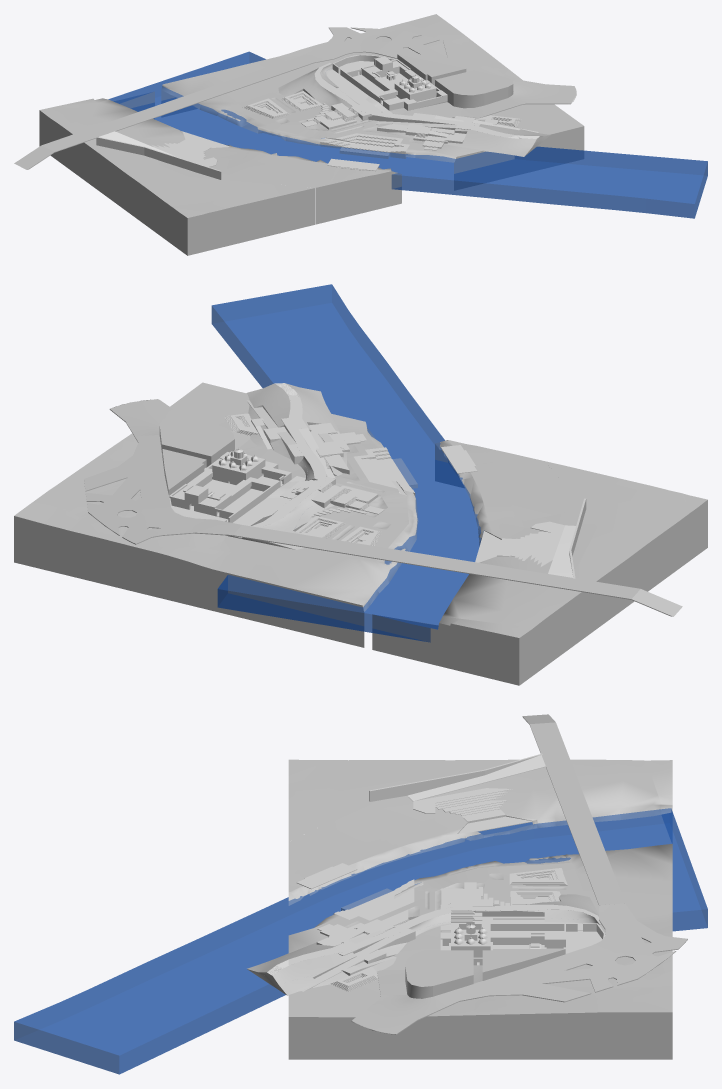
The model's file is thesis-model.obj.
3 renders of one model, top to bottom at view 1: azimuth 30°, elevation 25°; view 2: azimuth 150°, elevation 25°; view 3: azimuth 270°, elevation 25°, orthographic. The views are drawn at different scales.
Visible parts, largest first — view 1: elementName.011, elementName.007, elementName.013, elementName.001, elementName.020, elementName.019, elementName, elementName.010, elementName.002, elementName.021, elementName.016, elementName.003 (+5 smaller); view 2: elementName.011, elementName.007, elementName.013, elementName.001, elementName.020, elementName.019, elementName.010, elementName.002, elementName, elementName.021, elementName.016, elementName.003 (+3 smaller); view 3: elementName.011, elementName.007, elementName.001, elementName.013, elementName.020, elementName.019, elementName.002, elementName, elementName.010, elementName.021, elementName.004, elementName.016 (+6 smaller).
Boxes of the visible parts, x1,y1,x2,y2 form: elementName.011: (108,51,707,218); elementName.007: (40,14,583,217); elementName.013: (39,90,584,255); elementName.001: (14,24,576,169); elementName.020: (152,69,521,171); elementName.019: (210,158,364,212); elementName: (397,38,522,108); elementName.010: (321,113,538,170); elementName.002: (203,91,382,184); elementName.021: (332,54,447,110); elementName.016: (314,63,516,148); elementName.003: (339,57,445,110); elementName.011: (211,284,484,642); elementName.007: (14,382,707,637); elementName.013: (14,444,707,685); elementName.001: (32,399,682,616); elementName.020: (224,413,564,566); elementName.019: (482,447,678,520); elementName.010: (230,400,476,495); elementName.002: (310,442,580,561); elementName: (55,417,234,495); elementName.021: (169,451,291,522); elementName.016: (250,394,378,527); elementName.003: (172,453,288,521); elementName.011: (14,808,707,1074); elementName.007: (247,759,672,1017); elementName.001: (351,714,687,1034); elementName.013: (288,1012,672,1059); elementName.020: (297,788,582,991); elementName.019: (288,774,420,874); elementName.002: (288,795,583,915); elementName: (405,949,588,1015); elementName.010: (297,863,423,991); elementName.021: (440,921,605,965); elementName.004: (288,819,537,905); elementName.016: (288,904,600,988).
Size of the model in its own units: 379 by 39.41 by 332.
